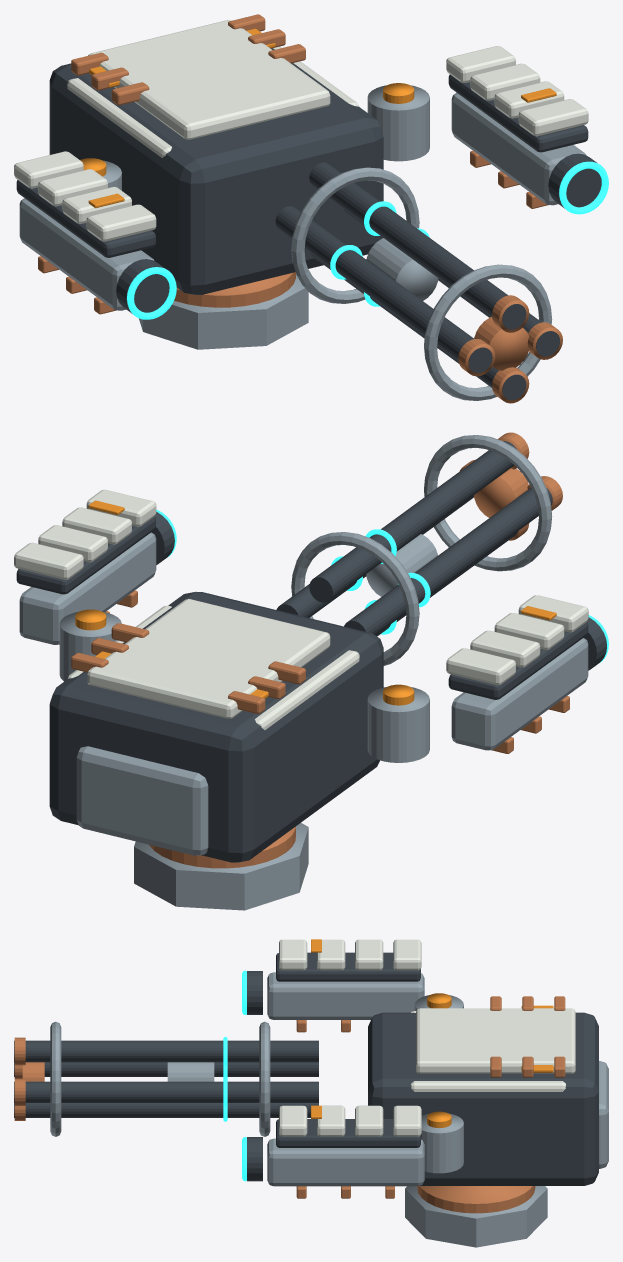
The model's file is M01-016_foldout_rotary_cannon.glb.
The picture shows the model from 3 angles, top to bottom: view 1: azimuth 30°, elevation 25°; view 2: azimuth 150°, elevation 25°; view 3: azimuth 270°, elevation 25°; orthographic projection. The views are drawn at different scales.
Parts seen in each view (by area): view 1: M01-016_low_profile_main_hull, M01-016_ceramic_dorsal_plate, M01-016_socket_octagonal, M01-016_barrel_2, M01-016_barrel_1, M01-016_RIGHT_beam, M01-016_LEFT_beam, M01-016_rotor_brace_-1.12, M01-016_rotor_brace_-0.27, M01-016_R_hinge_bearing, M01-016_RIGHT_upper_rail, M01-016_LEFT_upper_rail (+26 smaller); view 2: M01-016_low_profile_main_hull, M01-016_ceramic_dorsal_plate, M01-016_rear_electronics, M01-016_socket_octagonal, M01-016_LEFT_beam, M01-016_barrel_1, M01-016_RIGHT_beam, M01-016_barrel_2, M01-016_rotor_brace_-1.12, M01-016_L_hinge_bearing, M01-016_rotor_brace_-0.27, M01-016_LEFT_upper_rail (+17 smaller); view 3: M01-016_low_profile_main_hull, M01-016_ceramic_dorsal_plate, M01-016_RIGHT_beam, M01-016_barrel_1, M01-016_barrel_0, M01-016_LEFT_beam, M01-016_socket_octagonal, M01-016_barrel_3, M01-016_barrel_2, M01-016_socket_lock_ring, M01-016_LEFT_upper_rail, M01-016_RIGHT_upper_rail (+17 smaller).
Boxes of the visible parts, x1,y1,x2,y2 form: M01-016_low_profile_main_hull: [49, 48, 383, 294]; M01-016_ceramic_dorsal_plate: [88, 20, 330, 139]; M01-016_socket_octagonal: [139, 273, 308, 349]; M01-016_barrel_2: [275, 206, 492, 373]; M01-016_barrel_1: [309, 162, 526, 329]; M01-016_RIGHT_beam: [451, 92, 586, 205]; M01-016_LEFT_beam: [19, 198, 154, 310]; M01-016_rotor_brace_-1.12: [424, 264, 552, 400]; M01-016_rotor_brace_-0.27: [291, 167, 419, 303]; M01-016_R_hinge_bearing: [367, 85, 429, 161]; M01-016_RIGHT_upper_rail: [448, 74, 588, 152]; M01-016_LEFT_upper_rail: [16, 180, 155, 257]; M01-016_low_profile_main_hull: [49, 591, 383, 862]; M01-016_ceramic_dorsal_plate: [87, 599, 330, 718]; M01-016_rear_electronics: [76, 746, 208, 855]; M01-016_socket_octagonal: [134, 823, 308, 910]; M01-016_LEFT_beam: [451, 638, 588, 750]; M01-016_barrel_1: [309, 441, 516, 602]; M01-016_RIGHT_beam: [19, 532, 156, 644]; M01-016_barrel_2: [344, 488, 552, 635]; M01-016_rotor_brace_-1.12: [424, 435, 552, 571]; M01-016_L_hinge_bearing: [367, 687, 429, 762]; M01-016_rotor_brace_-0.27: [291, 532, 419, 665]; M01-016_LEFT_upper_rail: [448, 622, 588, 699]; M01-016_low_profile_main_hull: [368, 1012, 598, 1185]; M01-016_ceramic_dorsal_plate: [416, 1008, 575, 1073]; M01-016_RIGHT_beam: [267, 1138, 424, 1186]; M01-016_barrel_1: [14, 1040, 318, 1062]; M01-016_barrel_0: [14, 1081, 318, 1102]; M01-016_LEFT_beam: [267, 972, 424, 1019]; M01-016_socket_octagonal: [405, 1186, 547, 1247]; M01-016_barrel_3: [14, 1103, 318, 1117]; M01-016_barrel_2: [14, 1062, 318, 1076]; M01-016_socket_lock_ring: [417, 1186, 535, 1213]; M01-016_LEFT_upper_rail: [276, 952, 420, 981]; M01-016_RIGHT_upper_rail: [276, 1119, 420, 1147].
Size of the model in its own units: 1.81 by 0.855 by 2.42.
